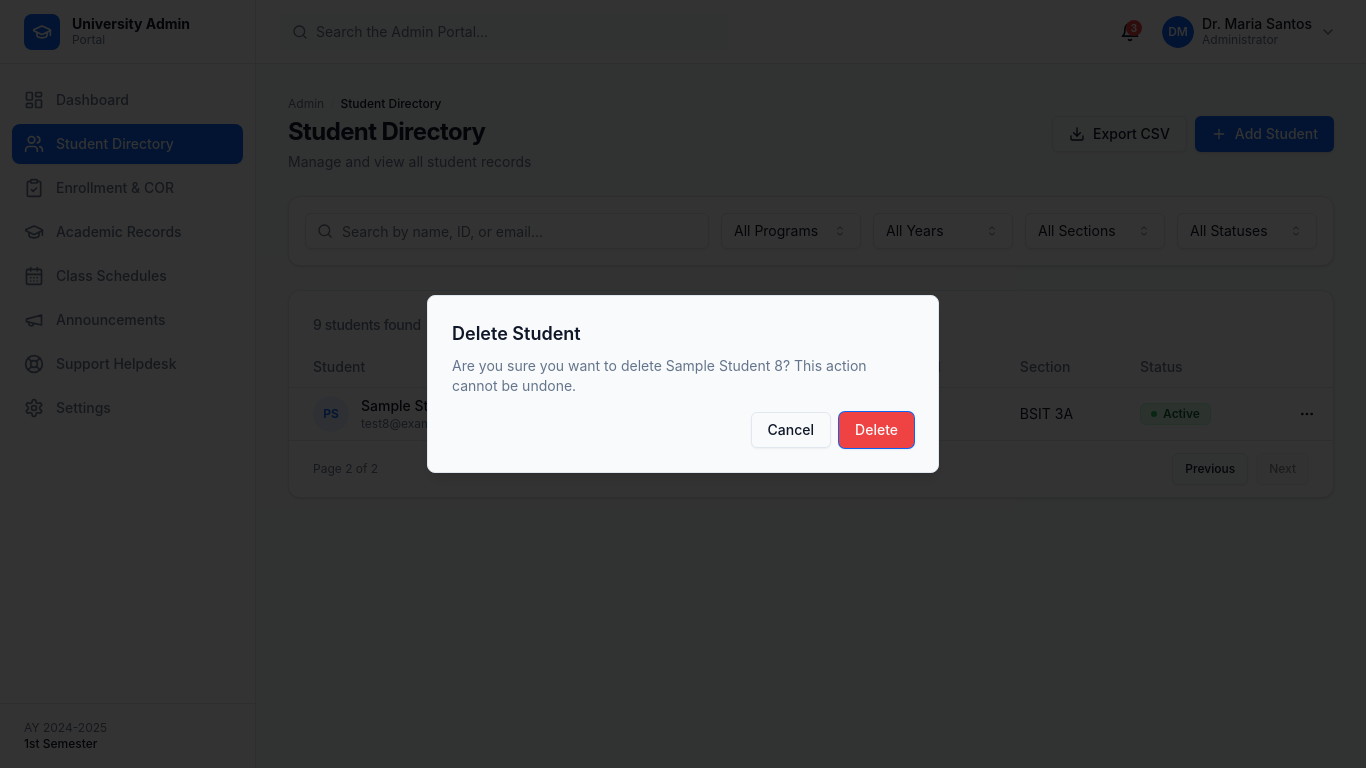
Admin routes and workflows › deletes an unlinked student with confirmation and clamps the last page
Earlier steps of the test are not shown.
Click the button "Delete" at (877, 430), box [839,412,914,448]
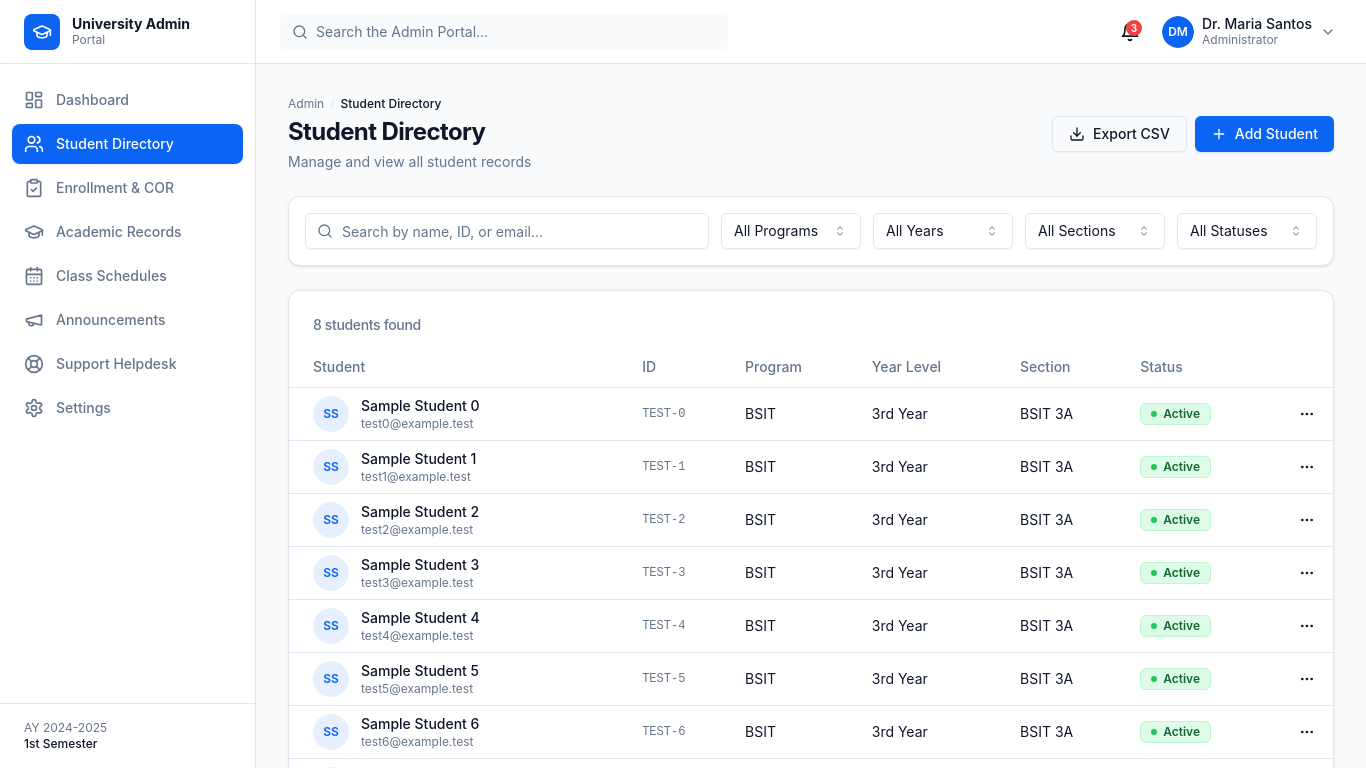
Expected: the text "Sample Student 0" is shown, [361,396,480,416]
